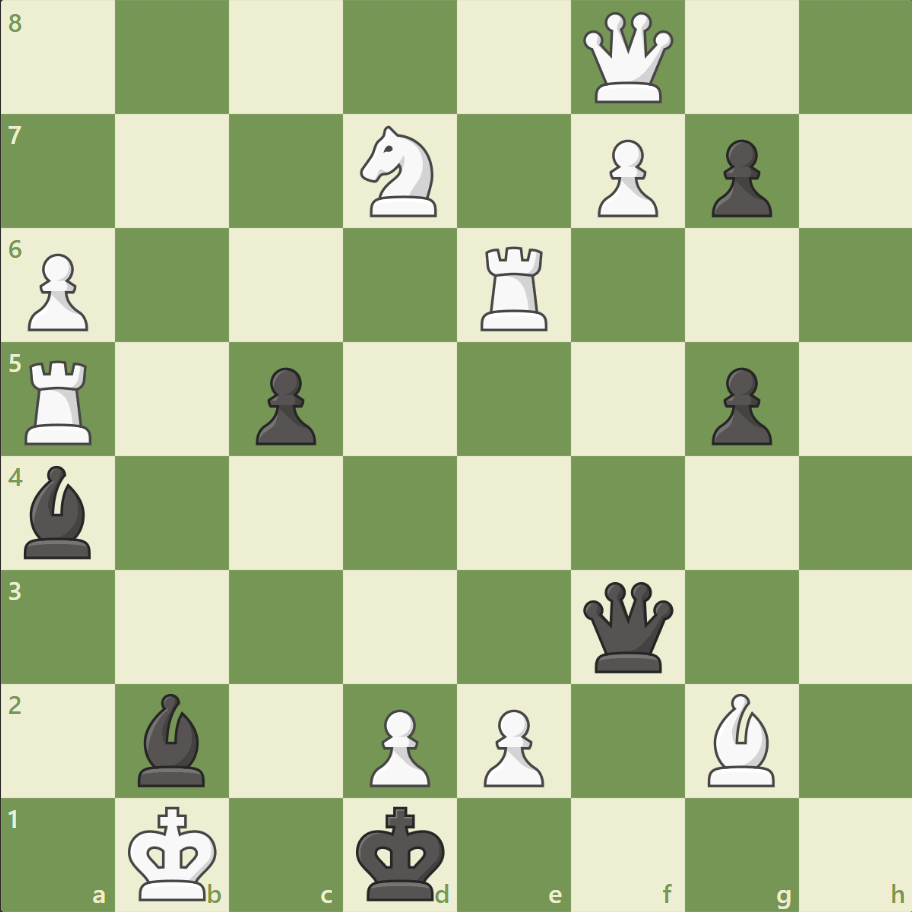B: (698, 687, 782, 790)
K: (124, 798, 224, 906)
N: (351, 121, 449, 223)
P: (20, 246, 95, 337), (474, 700, 549, 791), (588, 132, 662, 223), (361, 700, 435, 791)
Q: (578, 9, 677, 108)
R: (473, 239, 556, 336), (19, 352, 102, 449)
b: (17, 460, 101, 563), (131, 687, 215, 790)
k: (351, 798, 451, 906)
p: (701, 132, 776, 223), (247, 359, 322, 450), (701, 359, 776, 450)
q: (578, 576, 677, 676)
